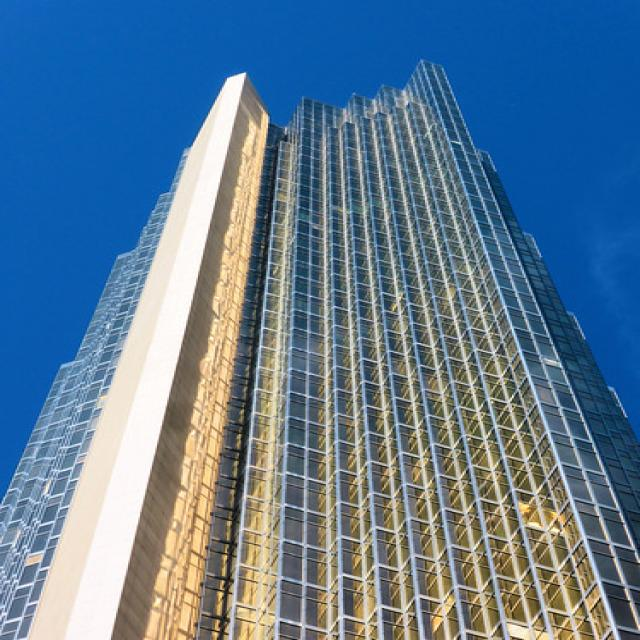Normal_building: (3, 54, 640, 640)
